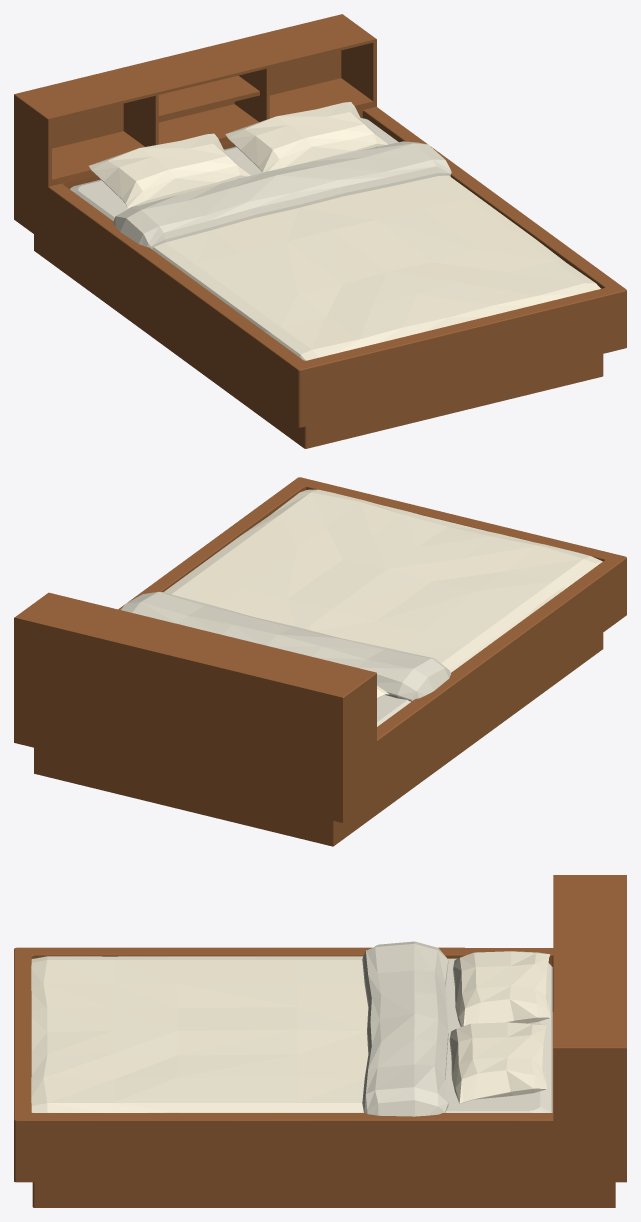
File: big bed.glb
The picture shows the model from 3 angles, top to bottom: view 1: azimuth 30°, elevation 25°; view 2: azimuth 150°, elevation 25°; view 3: azimuth 270°, elevation 25°; orthographic projection. The views are drawn at different scales.
Visible parts, largest first — view 1: Node; view 2: Node; view 3: Node.
Boxes of the visible parts, bbox=[...] form: Node: bbox=[14, 14, 626, 448]; Node: bbox=[14, 477, 626, 846]; Node: bbox=[14, 875, 626, 1207].
Bounding box in the file's own units: 66 × 30 × 99.
